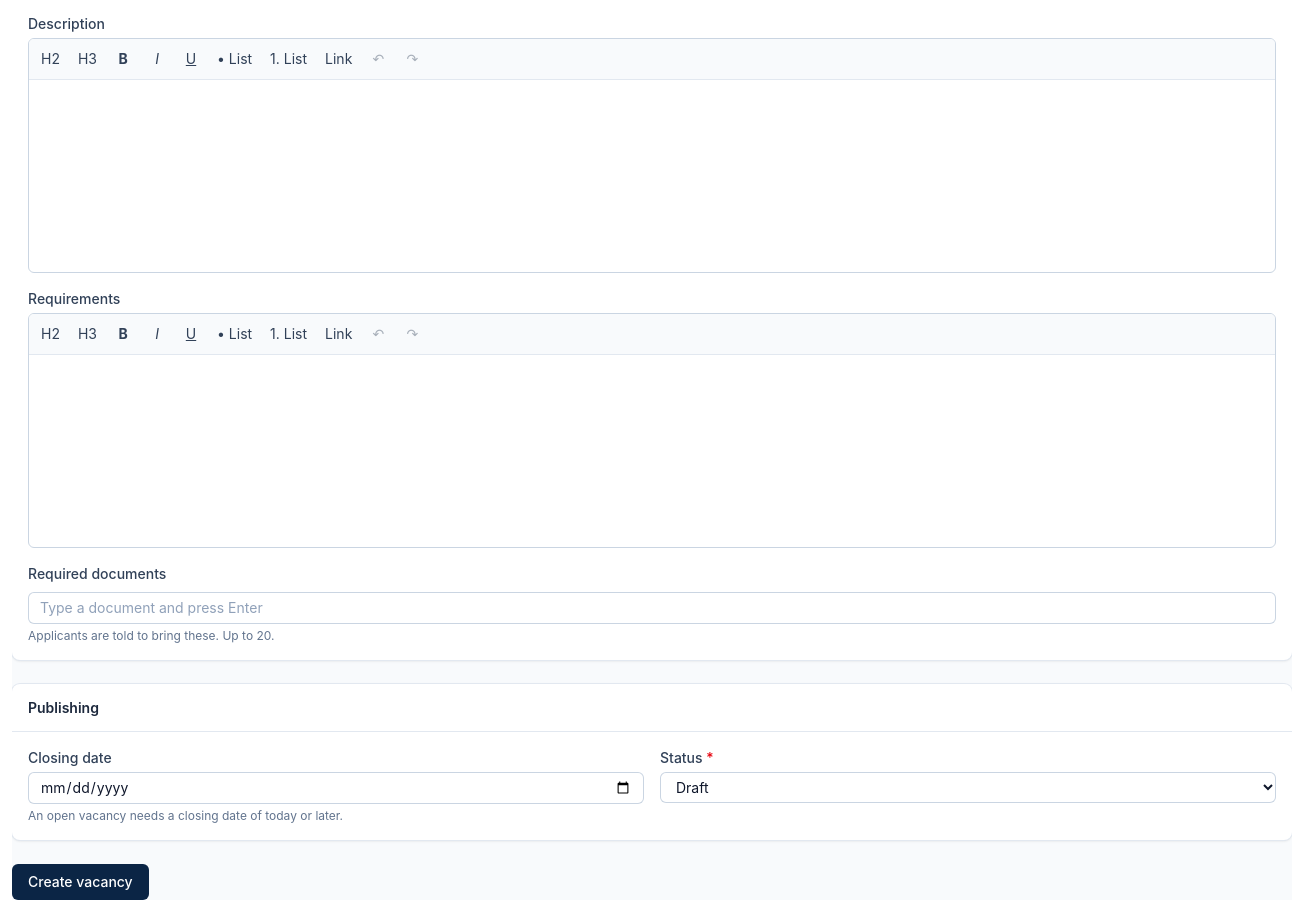
VacancyFormPage › shows validation errors and does not submit an empty form
(page scrolled)
Click the button "Create vacancy". click: (80, 882)
box: [12,864,149,899]
(page scrolled)
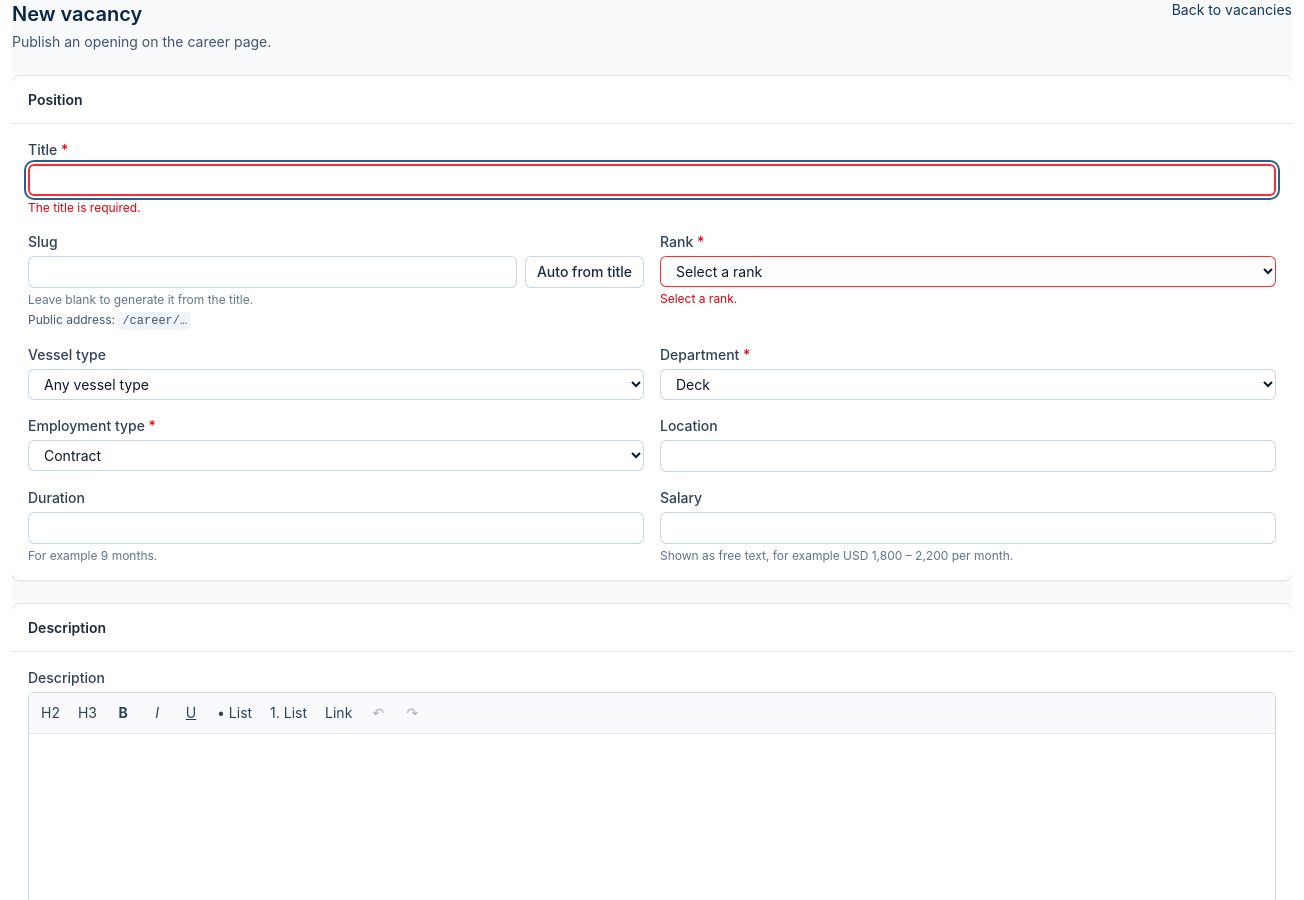
Expected: the text "The title is required." is shown, [28,200,141,215]
Expected: the text "Select a rank." is shown, [660,291,737,306]
